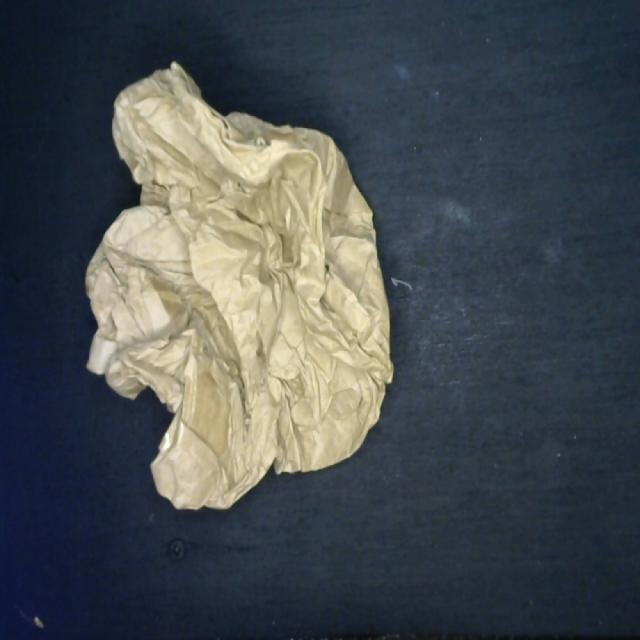biodegradable: (78, 58, 397, 515)
